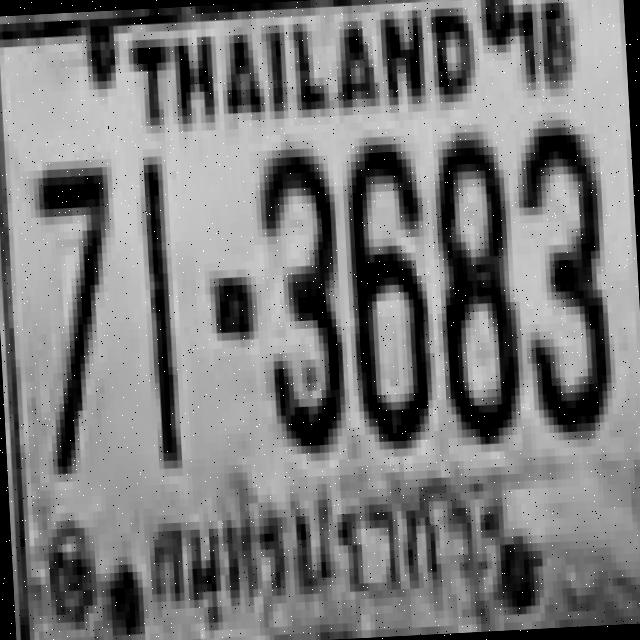1: (136, 156, 180, 462)
3: (514, 114, 610, 430), (254, 140, 342, 448)
6: (341, 135, 430, 443)
7: (31, 160, 120, 468)
8: (427, 124, 517, 438)
SamutPrakan: (143, 475, 512, 605)
